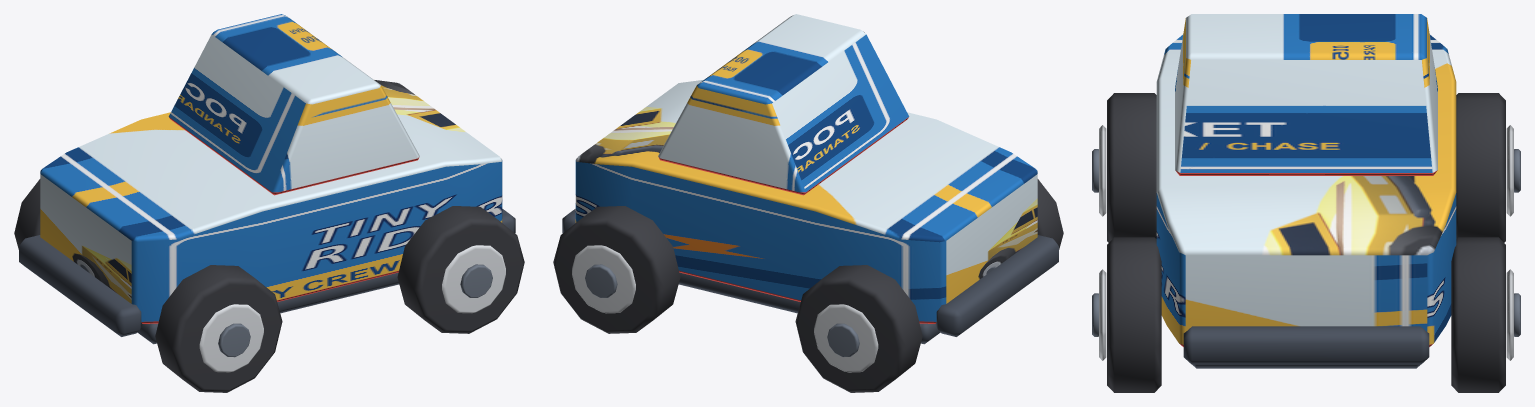
The picture shows the model from 3 angles, left to right: view 1: azimuth 30°, elevation 25°; view 2: azimuth 150°, elevation 25°; view 3: azimuth 270°, elevation 25°; orthographic projection. The views are drawn at different scales.
Visible parts, largest first — view 1: CC-01_connected_shell, CC-01_cabin, Tire.002, Tire, front bumper, Rim, Rim.002, underbody, Tire.001, Hub, Hub.002; view 2: CC-01_connected_shell, CC-01_cabin, Tire.003, Tire.001, front bumper, Rim.001, Rim.003, underbody, Tire, Hub.001, Hub.003; view 3: CC-01_connected_shell, CC-01_cabin, rear bumper, Tire.002, Tire.003, Tire, Tire.001, underbody, Rim, Rim.001, Rim.002, Rim.003.
Boxes of the visible parts, x1,y1,x2,y2 form: CC-01_connected_shell: (40, 80, 502, 323); CC-01_cabin: (168, 14, 419, 195); Tire.002: (397, 206, 524, 333); Tire: (155, 265, 282, 392); front bumper: (19, 235, 142, 336); Rim: (199, 304, 263, 372); Rim.002: (442, 245, 505, 313); underbody: (137, 272, 398, 344); Tire.001: (14, 179, 40, 249); Hub: (218, 323, 250, 357); Hub.002: (460, 264, 492, 297); CC-01_connected_shell: (575, 80, 1037, 323); CC-01_cabin: (658, 14, 909, 195); Tire.003: (553, 206, 680, 333); Tire.001: (795, 265, 922, 392); front bumper: (935, 235, 1058, 336); Rim.001: (814, 304, 878, 372); Rim.003: (572, 245, 635, 313); underbody: (679, 272, 940, 344); Tire: (1037, 179, 1063, 249); Hub.001: (827, 323, 859, 357); Hub.003: (585, 264, 617, 297); CC-01_connected_shell: (1156, 34, 1456, 346); CC-01_cabin: (1175, 14, 1437, 175); rear bumper: (1183, 326, 1429, 364); Tire.002: (1107, 237, 1161, 392); Tire.003: (1451, 237, 1505, 392); Tire: (1107, 93, 1156, 242); Tire.001: (1456, 93, 1505, 242); underbody: (1192, 364, 1420, 368); Rim: (1099, 125, 1106, 216); Rim.001: (1506, 125, 1513, 216); Rim.002: (1099, 269, 1106, 360); Rim.003: (1506, 269, 1513, 360).
Size of the model in its own units: 268 by 155 by 203.
